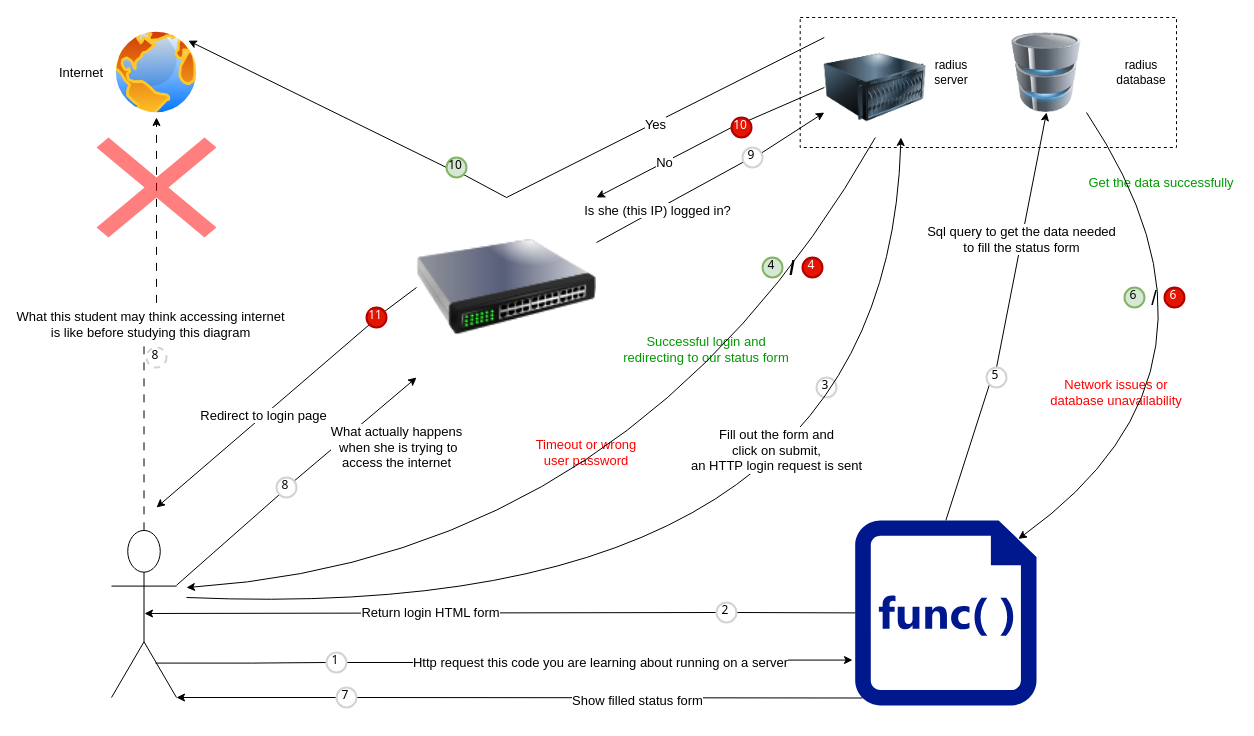
This 1254x736 diagram has some shape labels left out. Each missing label, with the centre of its shape:
awesome AUT student: (x=143, y=613)
microTik switch: (x=506, y=287)
